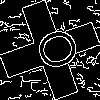O: (25, 25, 82, 77)
